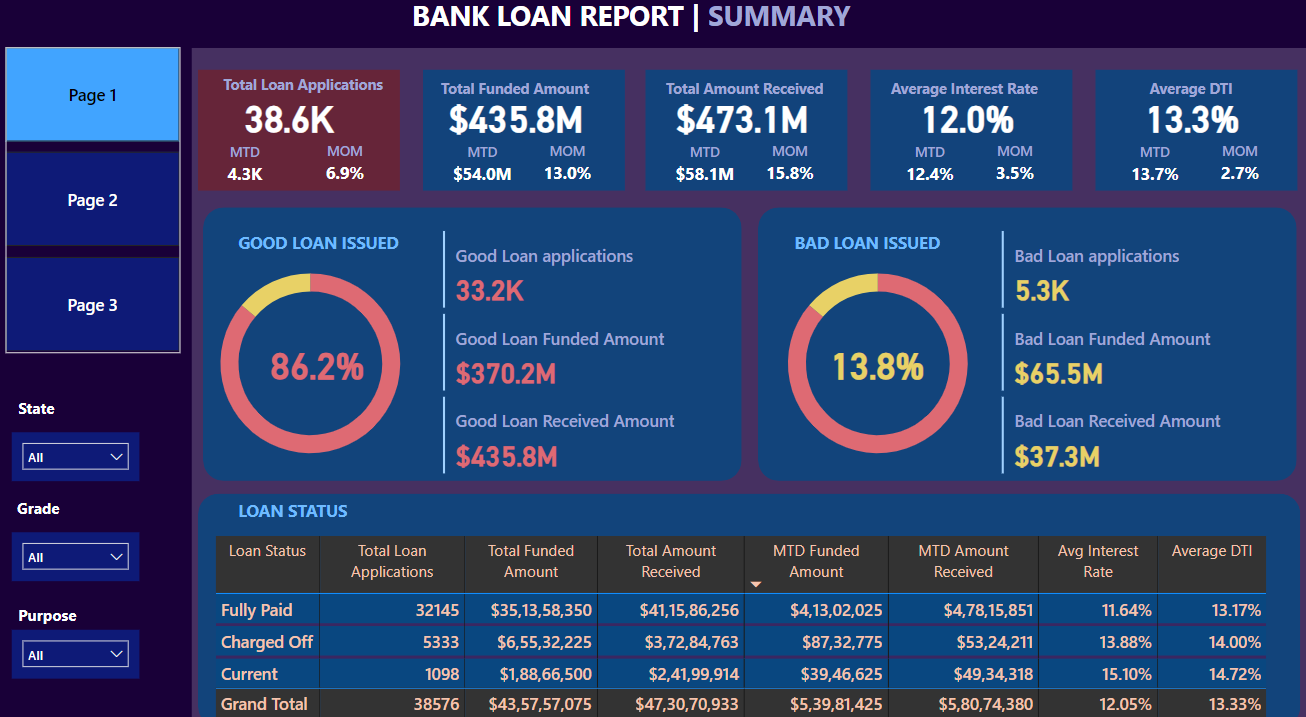

The page's visual inventory and layout, read from the dashboard file:
{"tool":"powerbi","page":{"name":"Page 1","canvas":[1280,720],"ordinal":0},"visuals":[{"type":"shape","box":[0,54.3,191.8,666],"z":0},{"type":"shape","box":[0,0,1280.3,55],"z":1000},{"type":"textbox","box":[392.5,0,448.7,54.9],"z":2000},{"type":"shape","box":[197.6,76,194.9,116.6],"z":3000,"group":"g1"},{"type":"shape","box":[415.5,76,194.9,116.6],"z":3000,"group":"g2"},{"type":"shape","box":[629.1,76,194.9,116.6],"z":3000,"group":"g3"},{"type":"shape","box":[846.2,76,194.9,116.6],"z":3000,"group":"g4"},{"type":"shape","box":[1063.4,76,194.9,116.6],"z":3000,"group":"g5"},{"type":"shape","box":[202.7,208.7,520,264.2],"z":3000},{"type":"group","id":"g1","title":"Group 1","box":[179.3,76,213.2,117.3],"z":4000},{"type":"card","fields":{"Values":["bank loan data.Total Amount Received"]},"box":[618.7,90,208.7,60.3],"z":4000,"group":"g3"},{"type":"card","fields":{"Values":["bank loan data.Avg Interest Rate"]},"box":[835.8,90,208.7,60.3],"z":4000,"group":"g4"},{"type":"card","fields":{"Values":["bank loan data.Average DTI"]},"box":[1053,90,208.7,60.3],"z":4000,"group":"g5"},{"type":"card","fields":{"Values":["bank loan data.Total Loan Applications"]},"box":[179.3,96.3,212.3,48.3],"z":4000,"group":"g1"},{"type":"card","fields":{"Values":["bank loan data.Total Funded Amount"]},"box":[400.9,96.5,208.7,48.3],"z":4000,"group":"g2"},{"type":"group","id":"g2","title":"Group 1","box":[400.9,76,209.4,116.6],"z":5000},{"type":"textbox","box":[217.2,76.3,174.9,36.2],"z":5000,"group":"g1"},{"type":"textbox","box":[644.5,79.2,174.9,33.8],"z":5000,"group":"g3"},{"type":"textbox","box":[861.6,79.2,174.9,33.8],"z":5000,"group":"g4"},{"type":"textbox","box":[1110.9,79.4,113.4,33.8],"z":5000,"group":"g5"},{"type":"textbox","box":[427.5,79.6,174.9,36.2],"z":5000,"group":"g2"},{"type":"card","title":"MTD","fields":{"Values":["bank loan data.MTD Funded Amount"]},"box":[437.4,145.5,71.2,47.1],"z":6000,"group":"g2"},{"type":"card","title":"MTD","fields":{"Values":["bank loan data.MTD Amount Received"]},"box":[651.1,145.5,71.2,47.1],"z":6000,"group":"g3"},{"type":"card","title":"MTD","fields":{"Values":["bank loan data.MTD Average Interest Rate"]},"box":[868.2,145.5,71.2,47.1],"z":6000,"group":"g4"},{"type":"card","title":"MTD","fields":{"Values":["bank loan data.MTD Average DTI"]},"box":[1085.4,145.5,71.2,47.1],"z":6000,"group":"g5"},{"type":"card","title":"MTD","fields":{"Values":["bank loan data.MTD Loan Applications"]},"box":[217.2,146.3,51.9,47.1],"z":6000,"group":"g1"},{"type":"card","fields":{"Values":["bank loan data.Good loan %"]},"box":[208.7,329.4,208.7,60.3],"z":6000},{"type":"card","title":"MOM","fields":{"Values":["bank loan data.MOM Funded Amount"]},"box":[525.5,144.3,59.1,48.3],"z":7000,"group":"g2"},{"type":"card","title":"MOM","fields":{"Values":["bank loan data.MOM Amount Received"]},"box":[739.2,144.3,59.1,48.3],"z":7000,"group":"g3"},{"type":"card","title":"MOM","fields":{"Values":["bank loan data.MOM Average Interest Rate"]},"box":[956.3,144.3,59.1,48.3],"z":7000,"group":"g4"},{"type":"card","title":"MOM","fields":{"Values":["bank loan data.MOM Average DTI"]},"box":[1173.5,144.3,59.1,48.3],"z":7000,"group":"g5"},{"type":"card","title":"MOM","fields":{"Values":["bank loan data.MOM Loan Applications"]},"box":[313.7,145.1,51.9,48.3],"z":7000,"group":"g1"},{"type":"textbox","box":[231.6,226.8,206.3,37.4],"z":7000},{"type":"group","id":"g3","title":"Group 1","box":[618.7,76,208.7,117],"z":8000},{"type":"group","id":"g4","title":"Group 1","box":[835.8,76,208.7,117],"z":9000},{"type":"group","id":"g5","title":"Group 1","box":[1053,76,208.7,116.6],"z":10000},{"type":"shape","box":[738.3,208.7,520,264.2],"z":11000},{"type":"donutChart","fields":{"Category":["bank loan data.Good vs Bad Loan"],"Y":["bank loan data.Total Loan Applications"]},"box":[191.8,246.1,229.2,226.8],"z":12000},{"type":"cardVisual","fields":{"Data":["bank loan data.Good Loan applications","bank loan data.Good Loan Funded Amount","bank loan data.Good Loan Received Amount"]},"box":[429.5,226.8,272.7,246.1],"z":13000},{"type":"donutChart","fields":{"Category":["bank loan data.Good vs Bad Loan"],"Y":["bank loan data.Total Loan Applications"]},"box":[739.5,246.1,229.2,226.8],"z":14000},{"type":"card","fields":{"Values":["bank loan data.Bad loan %"]},"box":[749.2,329.4,208.7,60.3],"z":15000},{"type":"cardVisual","fields":{"Data":["bank loan data.Bad Loan applications","bank loan data.Bad Loan Funded Amount","bank loan data.Bad Loan Received Amount"]},"box":[968.8,226.8,272.7,246.1],"z":16000},{"type":"shape","box":[197.9,485,1064.1,225.6],"z":17000},{"type":"tableEx","fields":{"Values":["bank loan data.loan_status","bank loan data.Total Loan Applications","bank loan data.Total Funded Amount","bank loan data.Total Amount Received","bank loan data.MTD Funded Amount","bank loan data.MTD Amount Received","bank loan data.Avg Interest Rate","bank loan data.Average DTI"]},"box":[208.7,521.2,1032.7,189.4],"z":18000},{"type":"textbox","box":[231.6,485,206.3,37.4],"z":19000},{"type":"slicer","fields":{"Values":["bank loan data.address_state"]},"box":[18.1,425.9,123.1,47.1],"z":20000},{"type":"textbox","box":[19.3,387.3,121.9,37.4],"z":21000},{"type":"slicer","fields":{"Values":["bank loan data.grade"]},"box":[18.1,522.4,123.1,47.1],"z":22000},{"type":"textbox","box":[18.1,483.8,121.9,37.4],"z":23000},{"type":"slicer","fields":{"Values":["bank loan data.purpose"]},"box":[18.1,616.5,123.1,47.1],"z":24000},{"type":"textbox","box":[19.3,587.5,121.9,37.4],"z":25000},{"type":"textbox","box":[768.5,226.8,206.3,37.4],"z":26000},{"type":"pageNavigator","box":[12.1,54.3,168.9,295.6],"z":27000}]}

Visuals, with their boxes in screenshot pixels (x1, y1, x2, y2), scaled from the page's 1280x720 canvas onto the 1306x717 screenshot:
shape: {"left": 0, "top": 54, "right": 196, "bottom": 716}
shape: {"left": 0, "top": 0, "right": 1305, "bottom": 55}
textbox: {"left": 400, "top": 0, "right": 858, "bottom": 55}
shape: {"left": 202, "top": 76, "right": 400, "bottom": 192}
shape: {"left": 424, "top": 76, "right": 623, "bottom": 192}
shape: {"left": 642, "top": 76, "right": 841, "bottom": 192}
shape: {"left": 863, "top": 76, "right": 1062, "bottom": 192}
shape: {"left": 1085, "top": 76, "right": 1284, "bottom": 192}
shape: {"left": 207, "top": 208, "right": 737, "bottom": 471}
"Group 1" group: {"left": 183, "top": 76, "right": 400, "bottom": 192}
card - bank loan data.Total Amount Received: {"left": 631, "top": 90, "right": 844, "bottom": 150}
card - bank loan data.Avg Interest Rate: {"left": 853, "top": 90, "right": 1066, "bottom": 150}
card - bank loan data.Average DTI: {"left": 1074, "top": 90, "right": 1287, "bottom": 150}
card - bank loan data.Total Loan Applications: {"left": 183, "top": 96, "right": 400, "bottom": 144}
card - bank loan data.Total Funded Amount: {"left": 409, "top": 96, "right": 622, "bottom": 144}
"Group 1" group: {"left": 409, "top": 76, "right": 623, "bottom": 192}
textbox: {"left": 222, "top": 76, "right": 400, "bottom": 112}
textbox: {"left": 658, "top": 79, "right": 836, "bottom": 113}
textbox: {"left": 879, "top": 79, "right": 1058, "bottom": 113}
textbox: {"left": 1133, "top": 79, "right": 1249, "bottom": 113}
textbox: {"left": 436, "top": 79, "right": 615, "bottom": 115}
"MTD" card: {"left": 446, "top": 145, "right": 519, "bottom": 192}
"MTD" card: {"left": 664, "top": 145, "right": 737, "bottom": 192}
"MTD" card: {"left": 886, "top": 145, "right": 958, "bottom": 192}
"MTD" card: {"left": 1107, "top": 145, "right": 1180, "bottom": 192}
"MTD" card: {"left": 222, "top": 146, "right": 275, "bottom": 193}
card - bank loan data.Good loan %: {"left": 213, "top": 328, "right": 426, "bottom": 388}
"MOM" card: {"left": 536, "top": 144, "right": 596, "bottom": 192}
"MOM" card: {"left": 754, "top": 144, "right": 815, "bottom": 192}
"MOM" card: {"left": 976, "top": 144, "right": 1036, "bottom": 192}
"MOM" card: {"left": 1197, "top": 144, "right": 1258, "bottom": 192}
"MOM" card: {"left": 320, "top": 144, "right": 373, "bottom": 193}
textbox: {"left": 236, "top": 226, "right": 447, "bottom": 263}
"Group 1" group: {"left": 631, "top": 76, "right": 844, "bottom": 192}
"Group 1" group: {"left": 853, "top": 76, "right": 1066, "bottom": 192}
"Group 1" group: {"left": 1074, "top": 76, "right": 1287, "bottom": 192}
shape: {"left": 753, "top": 208, "right": 1284, "bottom": 471}
donutChart - bank loan data.Good vs Bad Loan x bank loan data.Total Loan Applications: {"left": 196, "top": 245, "right": 430, "bottom": 471}
cardVisual - bank loan data.Good Loan applications x bank loan data.Good Loan Funded Amount: {"left": 438, "top": 226, "right": 716, "bottom": 471}
donutChart - bank loan data.Good vs Bad Loan x bank loan data.Total Loan Applications: {"left": 755, "top": 245, "right": 988, "bottom": 471}
card - bank loan data.Bad loan %: {"left": 764, "top": 328, "right": 977, "bottom": 388}
cardVisual - bank loan data.Bad Loan applications x bank loan data.Bad Loan Funded Amount: {"left": 988, "top": 226, "right": 1267, "bottom": 471}
shape: {"left": 202, "top": 483, "right": 1288, "bottom": 708}
tableEx - bank loan data.loan_status x bank loan data.Total Loan Applications: {"left": 213, "top": 519, "right": 1267, "bottom": 708}
textbox: {"left": 236, "top": 483, "right": 447, "bottom": 520}
slicer - bank loan data.address_state: {"left": 18, "top": 424, "right": 144, "bottom": 471}
textbox: {"left": 20, "top": 386, "right": 144, "bottom": 423}
slicer - bank loan data.grade: {"left": 18, "top": 520, "right": 144, "bottom": 567}
textbox: {"left": 18, "top": 482, "right": 143, "bottom": 519}
slicer - bank loan data.purpose: {"left": 18, "top": 614, "right": 144, "bottom": 661}
textbox: {"left": 20, "top": 585, "right": 144, "bottom": 622}
textbox: {"left": 784, "top": 226, "right": 995, "bottom": 263}
pageNavigator: {"left": 12, "top": 54, "right": 185, "bottom": 348}
